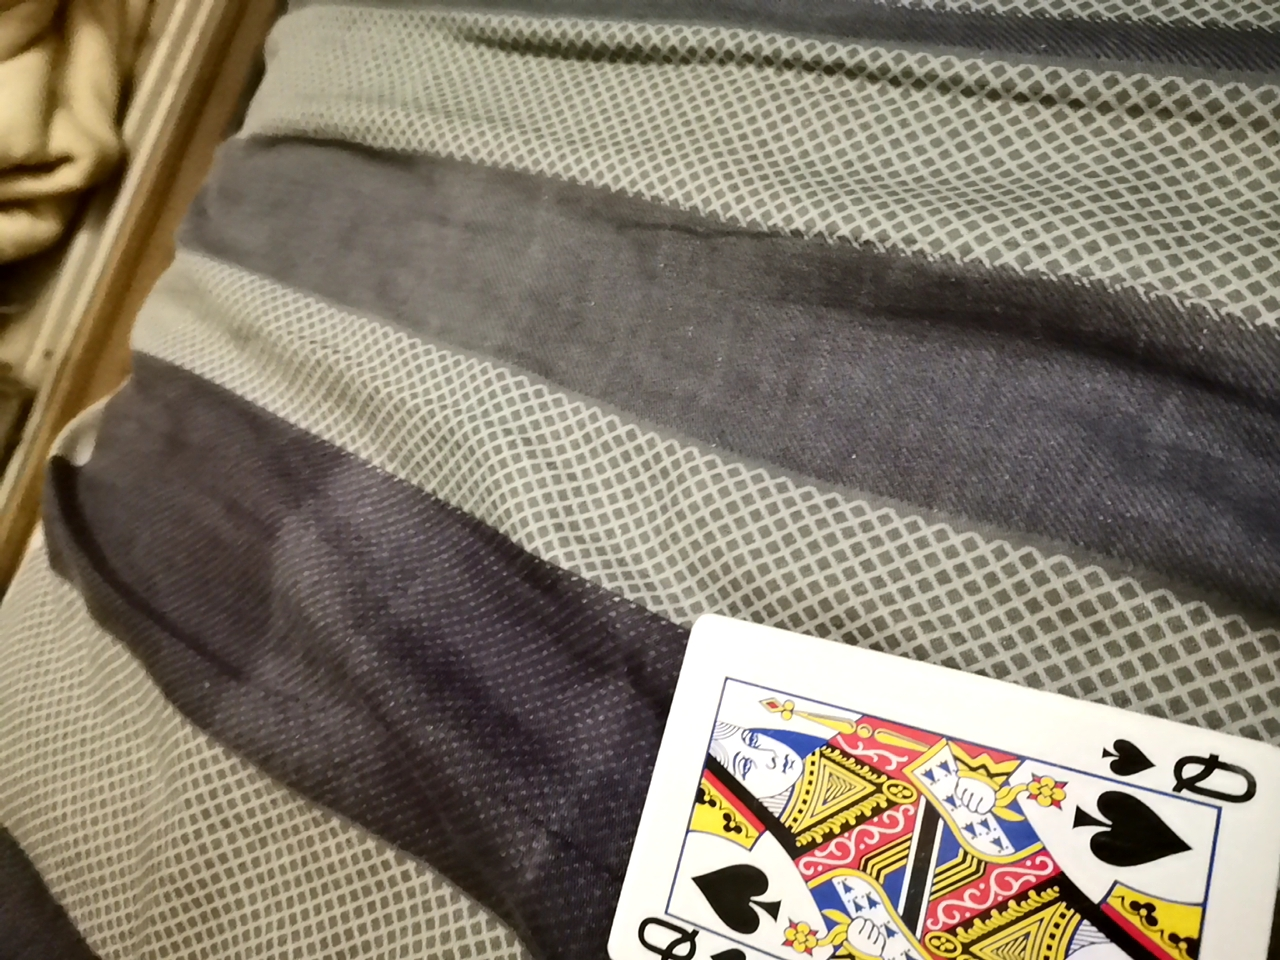ht q: (569, 607, 1263, 954)
